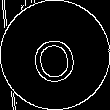O_N: (29, 26, 81, 84)
